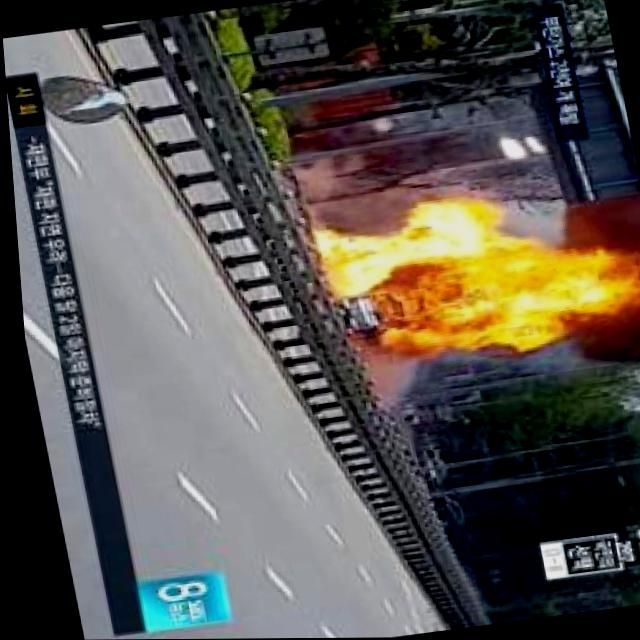Fire: (309, 193, 538, 365), (531, 236, 636, 326)
